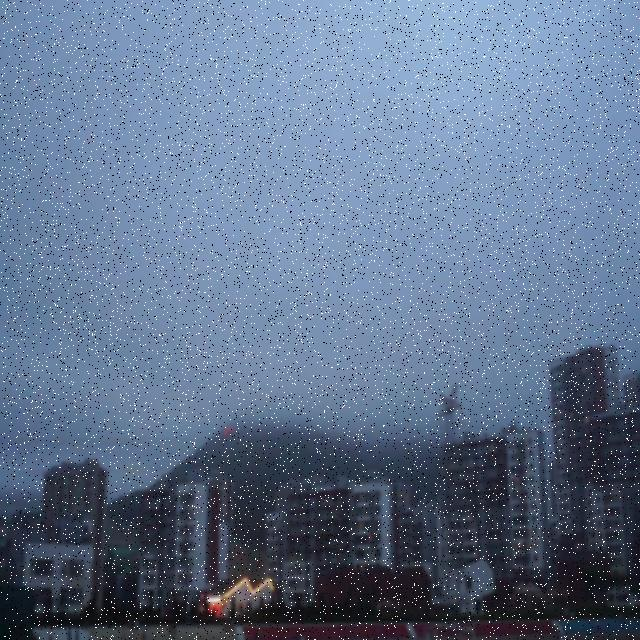UAV: (224, 427, 234, 435)
